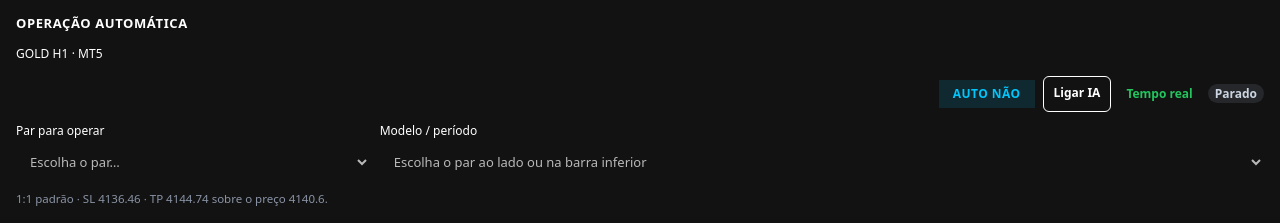
Test: recusa de plano aponta o desbloqueio (11/10/2026) › PROVA: 403 PLAN_REQUIRED em /api/auto/start vira "Configurações → Plano"
The image size is (1280, 223).
Click the switch named "Operação automática" at (987, 94), box [939,80,1035,108]
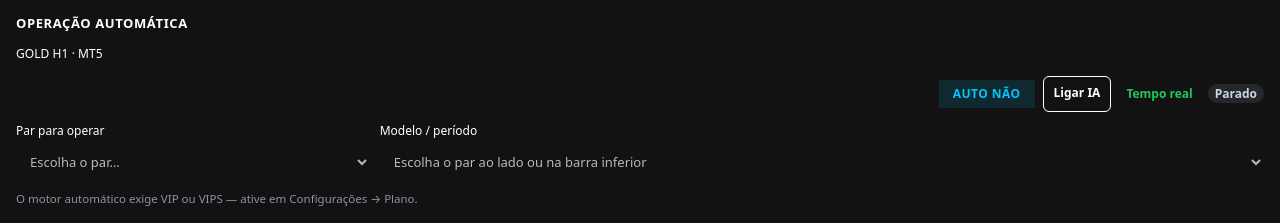
Check: the message "O motor automático exige VIP ou VIPS — ative em Configurações → Plano." is shown, box [16,190,418,206]
